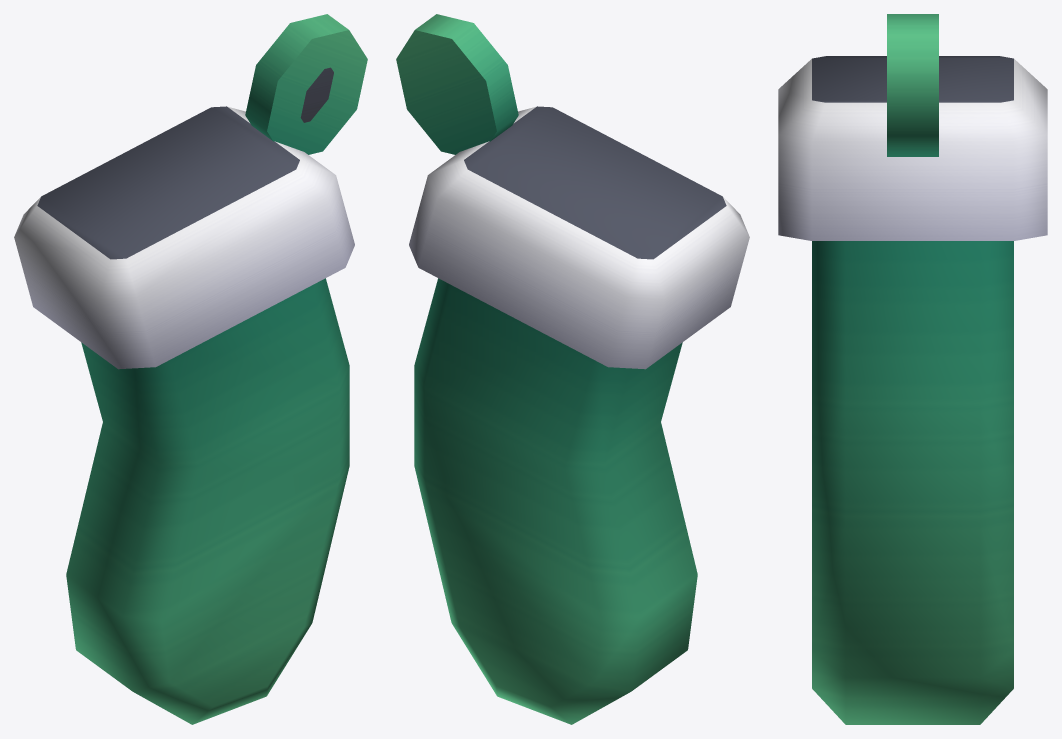
Rendered from sock-green.obj.
The picture shows the model from 3 angles, left to right: view 1: azimuth 30°, elevation 25°; view 2: azimuth 150°, elevation 25°; view 3: azimuth 270°, elevation 25°; orthographic projection. The views are drawn at different scales.
Visible parts, largest first — view 1: sock-green; view 2: sock-green; view 3: sock-green.
Boxes of the visible parts, x1=… form: sock-green: x1=14, y1=14, x2=367, y2=724; sock-green: x1=396, y1=14, x2=749, y2=724; sock-green: x1=778, y1=14, x2=1047, y2=724.
Bounding box in the file's own units: 0.3061 × 0.6229 × 0.2.
1 material, 1 textured.
